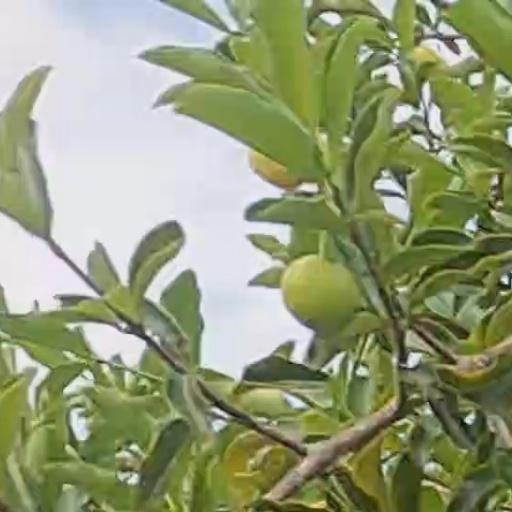acerola: (282, 252, 357, 333)
